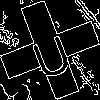U: (25, 25, 76, 82)
